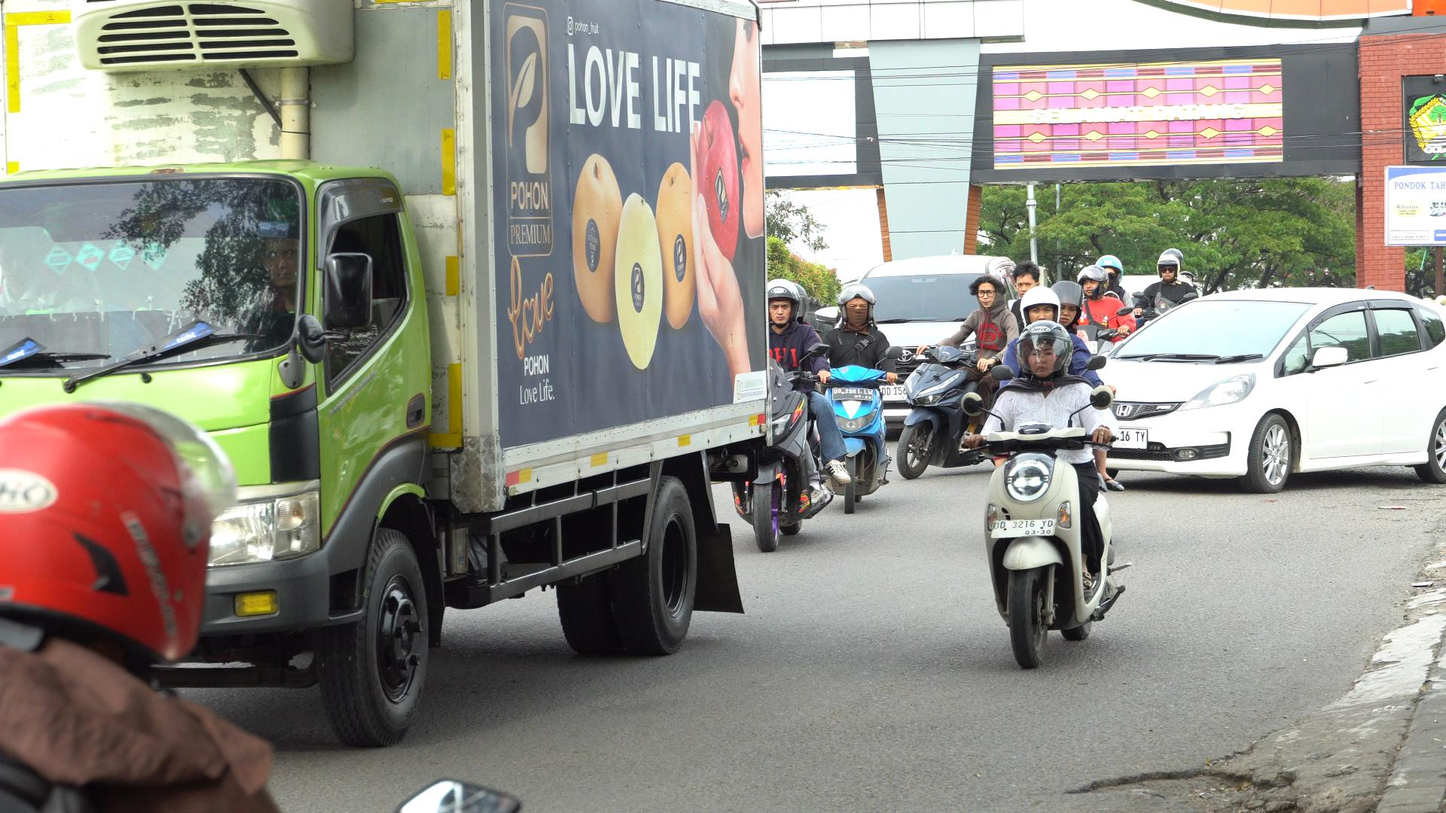number-plate: (991, 518, 1058, 540), (831, 386, 874, 401)
